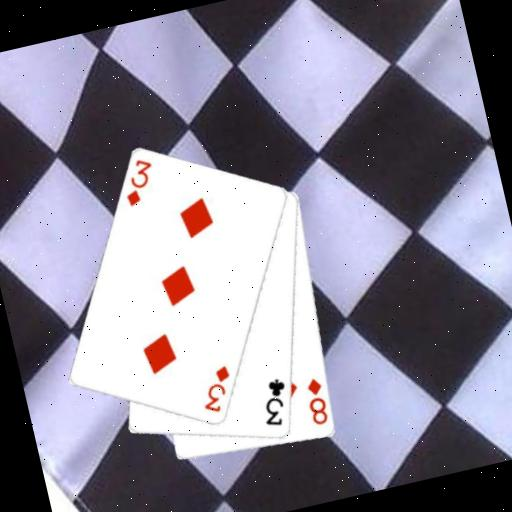3C: (254, 374, 296, 431)
3D: (193, 361, 240, 418), (115, 154, 161, 209)
8D: (300, 374, 332, 429)
